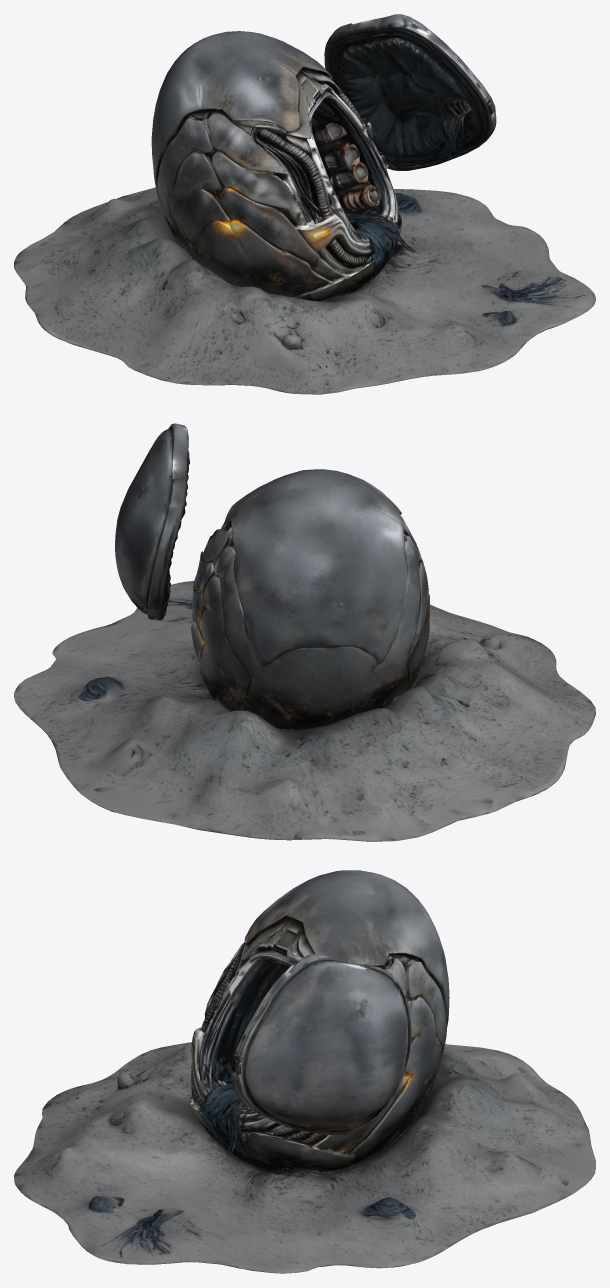
File: life_supply_drop_pod.glb
The picture shows the model from 3 angles, top to bottom: view 1: azimuth 30°, elevation 25°; view 2: azimuth 150°, elevation 25°; view 3: azimuth 270°, elevation 25°; orthographic projection. The views are drawn at different scales.
Visible parts, largest first — view 1: node_0; view 2: node_0; view 3: node_0.
Part boxes in pixels (x1,y1,x2,y2): node_0: (14, 14, 595, 394); node_0: (14, 423, 595, 841); node_0: (14, 870, 595, 1273).
Bounding box in the file's own units: 0.9793 × 0.4767 × 0.9805.
Materials: 1 (1 with a texture image).
